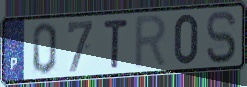0: (30, 21, 59, 78), (173, 12, 200, 67)
7: (66, 19, 95, 74)
R: (132, 12, 169, 72)
S: (205, 9, 239, 65)
T: (102, 17, 130, 70)
